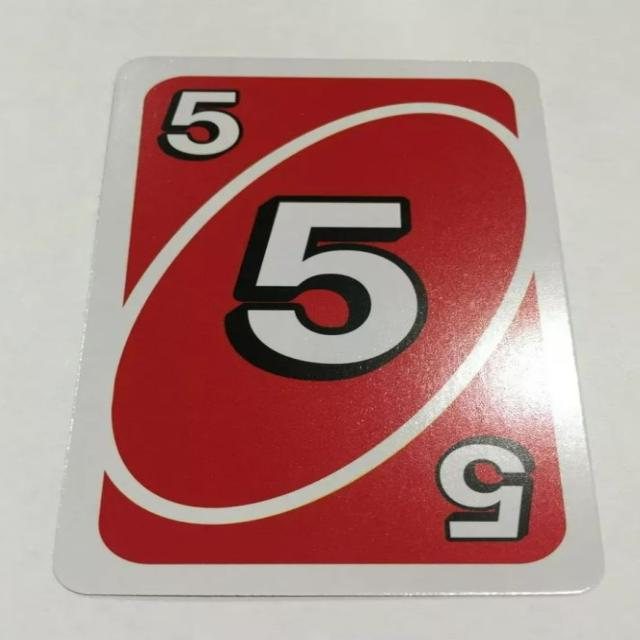Number_5: (158, 80, 248, 164)
Red_Card: (87, 63, 574, 574)
